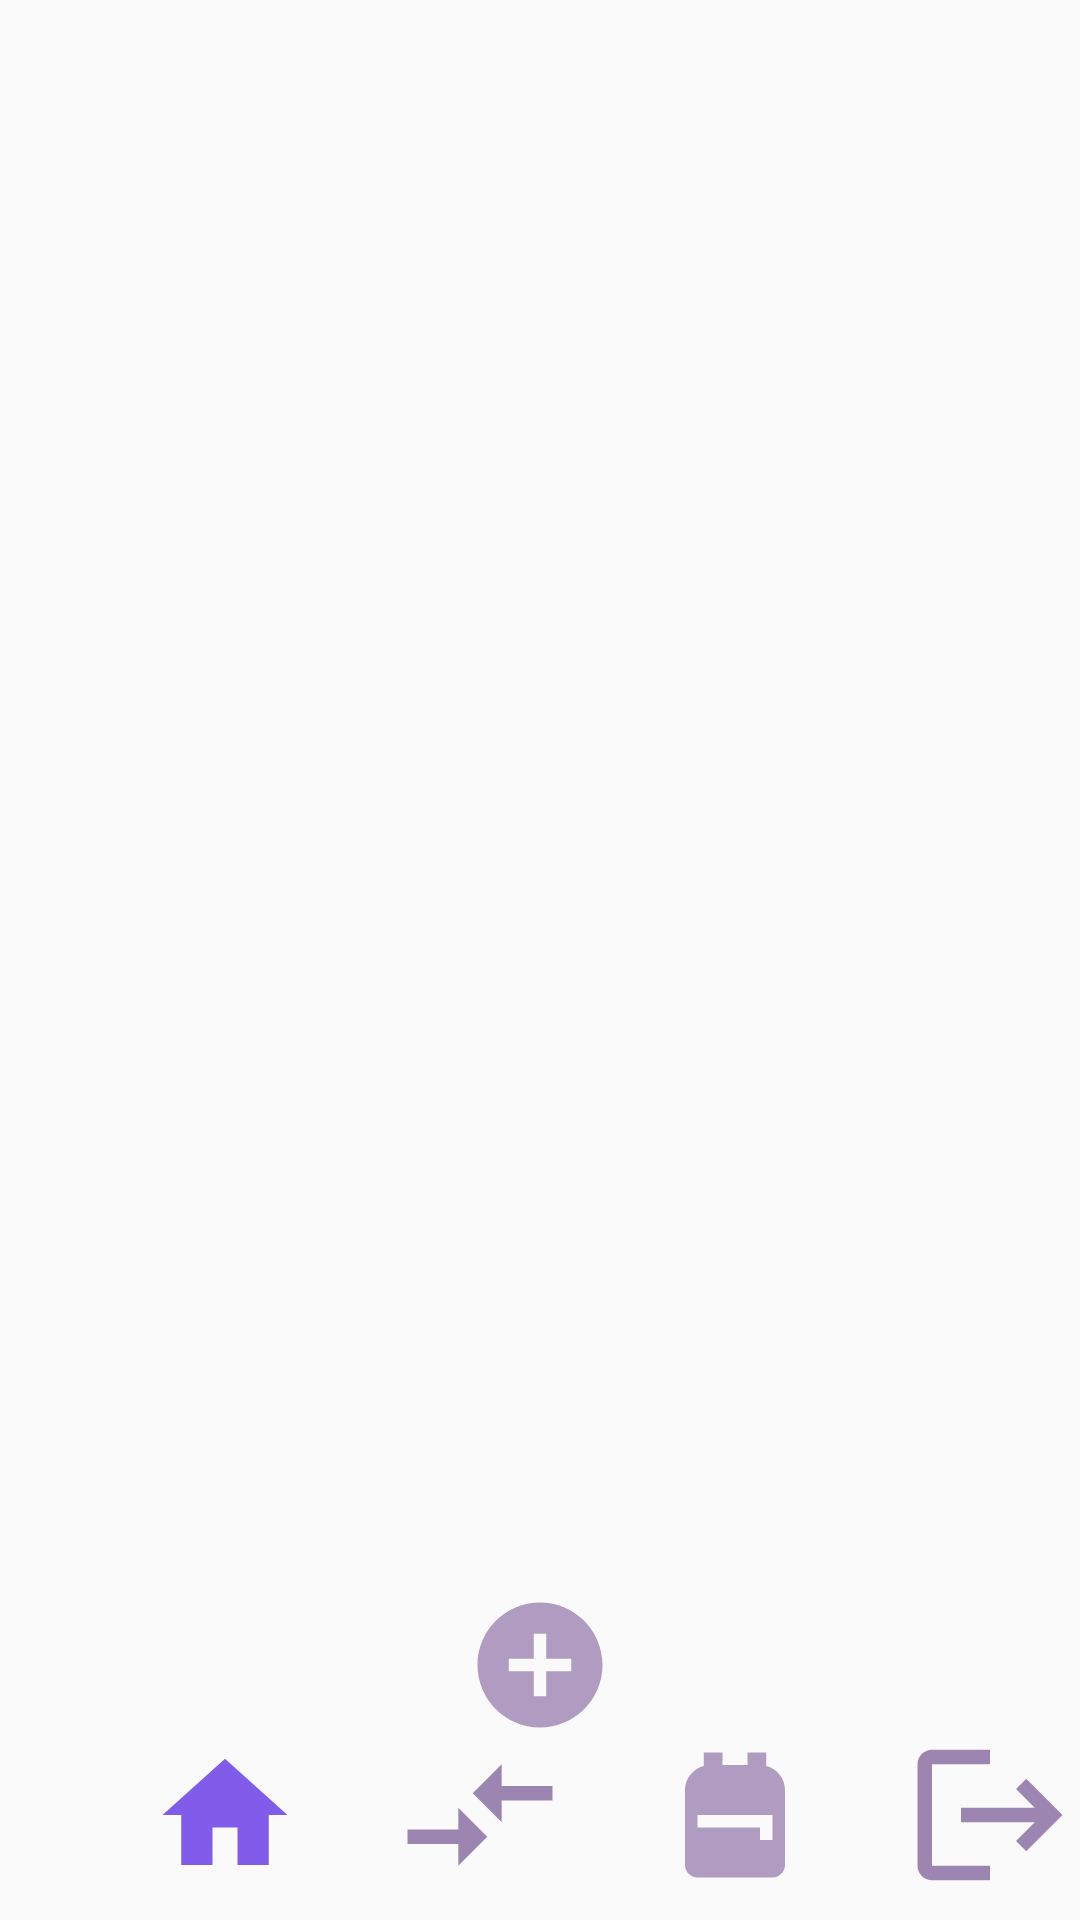

Where to tap for icons on this 1080 × 1920 app screen, as [x,y]:
Add Button: [540,1665]
Home Button: [225,1812]
Inventory Button: [735,1815]
tradeblock button: [480,1815]
